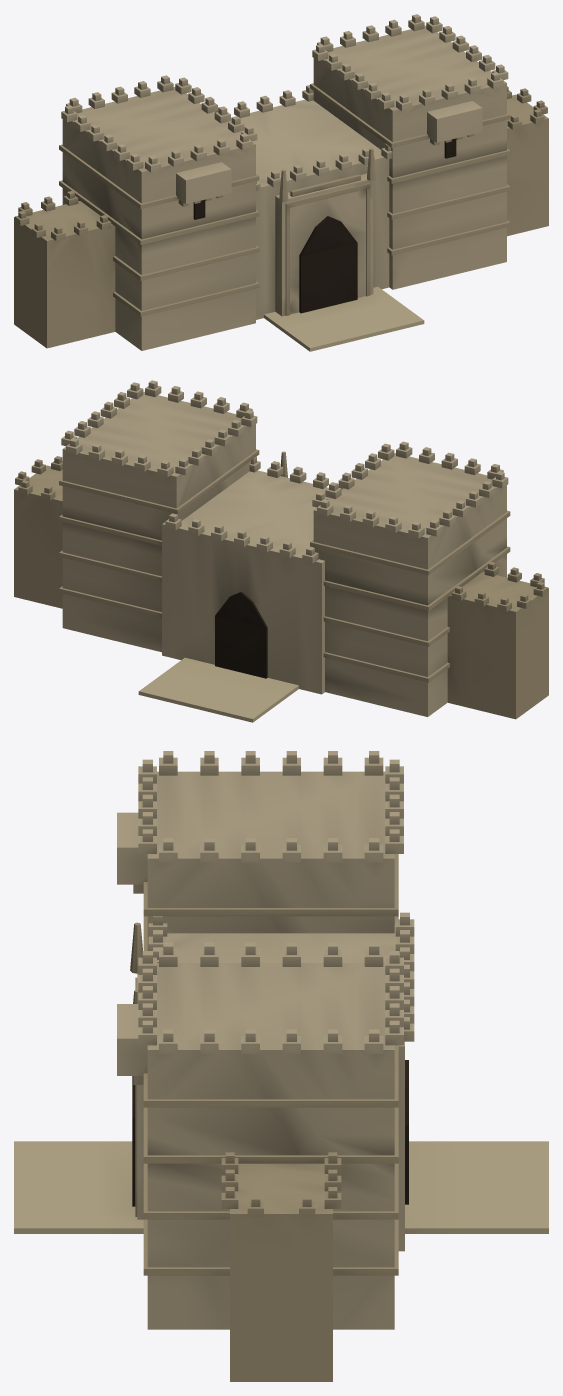
Rendered from bab-rashid.glb.
3 renders of one model, top to bottom at view 1: azimuth 30°, elevation 25°; view 2: azimuth 150°, elevation 25°; view 3: azimuth 270°, elevation 25°, orthographic. The views are drawn at different scales.
Visible parts, largest first — view 1: p1_gate, p0_walls, p2_battlements; view 2: p1_gate, p0_walls, p2_battlements; view 3: p1_gate, p0_walls, p2_battlements.
Part boxes in pixels (x1,y1,x2,y2): p1_gate: (61, 14, 508, 350); p0_walls: (14, 86, 548, 351); p2_battlements: (59, 83, 510, 316); p1_gate: (61, 380, 508, 716); p0_walls: (14, 456, 548, 722); p2_battlements: (59, 407, 510, 682); p1_gate: (130, 751, 408, 1329); p0_walls: (14, 1141, 548, 1381); p2_battlements: (117, 812, 414, 1275).
Bounding box in the file's own units: 44.8 × 15.99 × 26.
